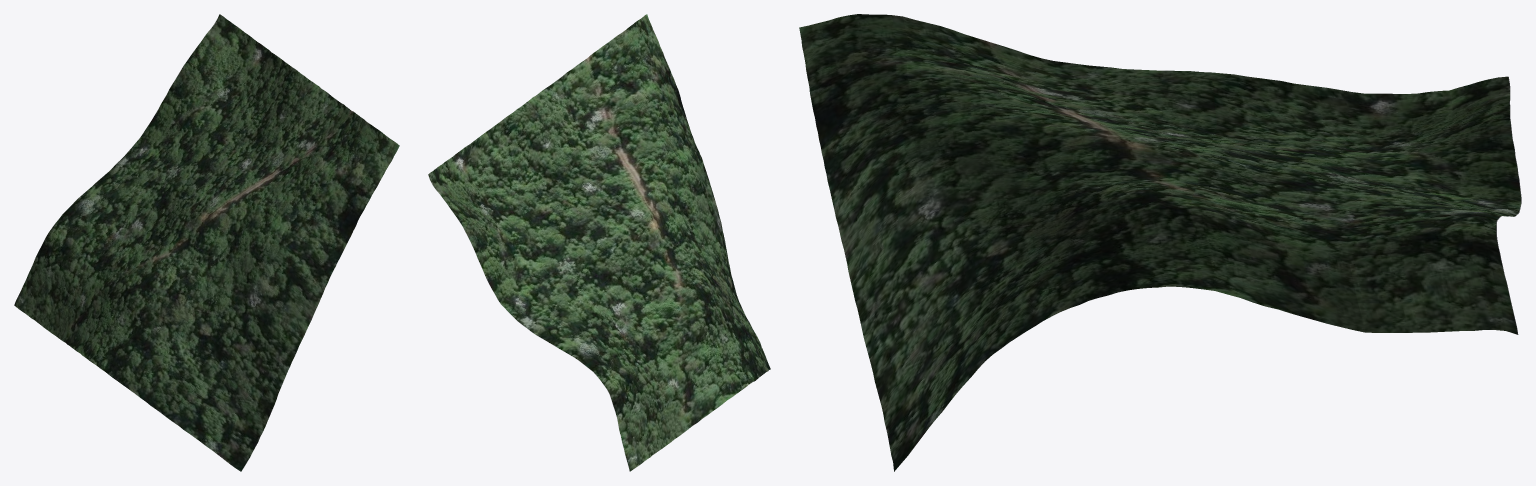
3 renders of one model, left to right at view 1: azimuth 30°, elevation 25°; view 2: azimuth 150°, elevation 25°; view 3: azimuth 270°, elevation 25°, orthographic. The views are drawn at different scales.
Bounding box in the file's own units: 208 × 278 × 320.
1 material, 1 textured.
